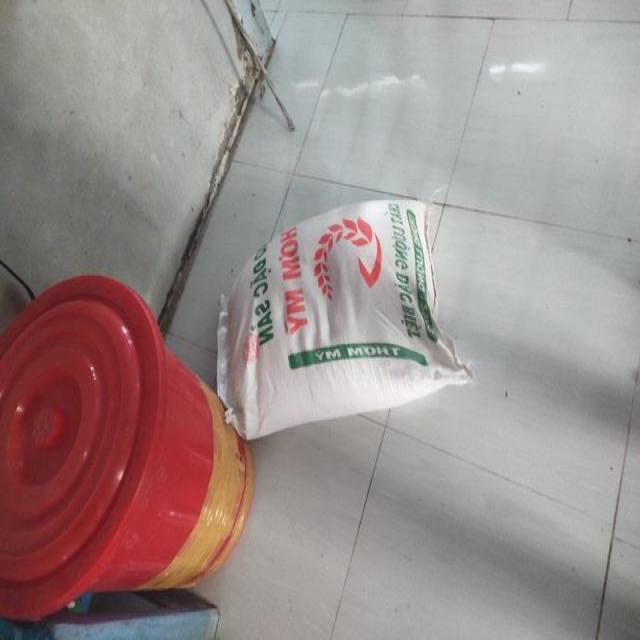gunny_bag: (216, 200, 470, 439)
